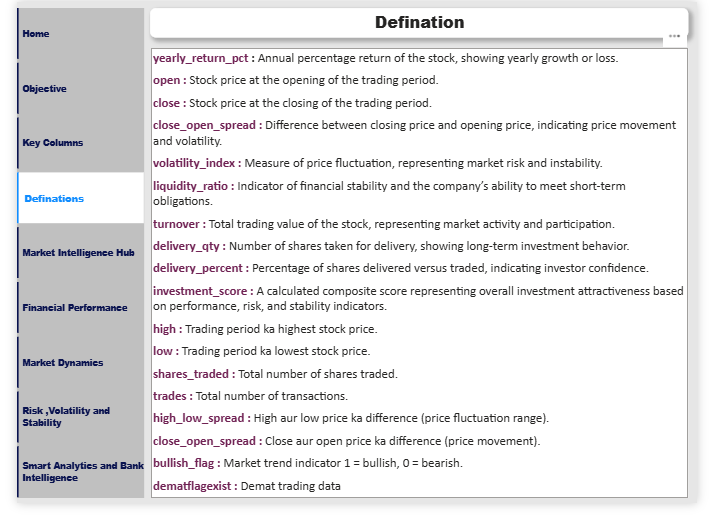

The dashboard page shown, as its layout file describes it:
{"tool":"powerbi","page":{"name":"Definations","canvas":[1700,1253],"ordinal":3},"visuals":[{"type":"textbox","title":"Defination","box":[332,14,1346,74],"z":0},{"type":"textbox","box":[335,115,1342.5,1125],"z":1000},{"type":"pageNavigator","box":[0,15,317.5,1225],"z":2000}]}

Visuals, with their boxes on the page's 1700x1253 design canvas (x1, y1, x2, y2). These are canvas units, not pixel positions in the 713x518 screenshot, which may show the page scaled, cropped or inside an application window:
"Defination" textbox: 332,14,1678,88
textbox: 335,115,1678,1240
pageNavigator: 0,15,318,1240
